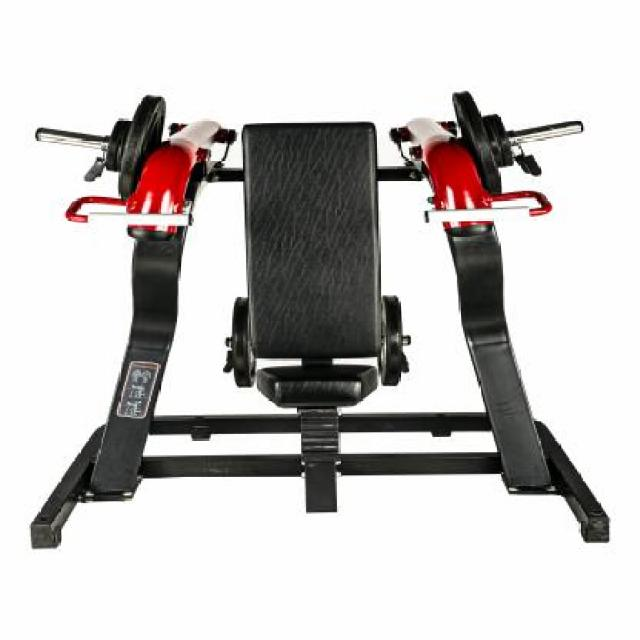shoulder press machine: (14, 83, 617, 560)
